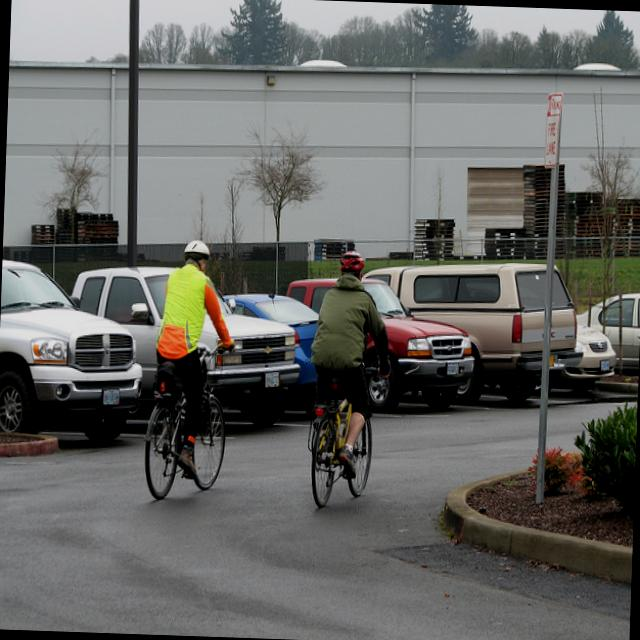Vehicle: (65, 264, 304, 428), (356, 257, 586, 410), (0, 256, 149, 442), (284, 273, 476, 414), (219, 292, 320, 414), (571, 289, 640, 373), (561, 324, 622, 388)
